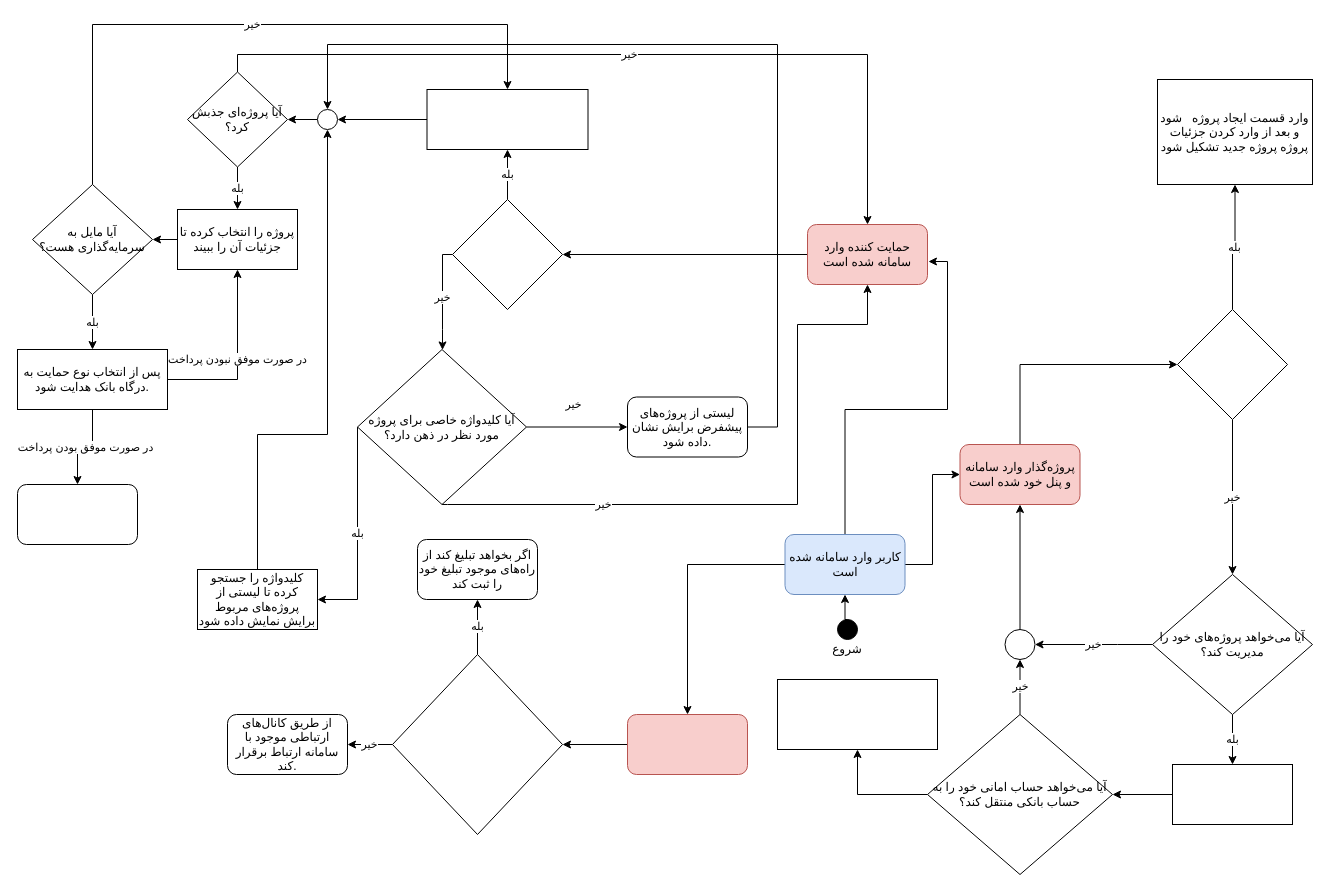
Image size: 1330x892. Some labels were removed from this diagram. Each missing label, with the box of its shape:
آیا از طریق اطلاعات موجود در سایت اطلاعات کافی را گرفته است؟: (392, 654, 562, 834)
آیا موضوع خاصی در ذهن دارد؟: (452, 198, 562, 310)
آیا می‌خواهد پروژه جدیدی طراحی کند؟: (1176, 308, 1288, 420)
تبلیغ‌گذار وارد سامانه شده است.: (626, 714, 748, 774)
موجودی حاضر در حساب امانی از طریق درگاه بانکی به حساب بانکی واریز شود: (776, 678, 938, 750)
موضوع مورد نظر خود را انتخاب کرده تا پروژه‌های مربوط برایش نشان داده شوند.: (426, 88, 588, 150)
وارد قسمت پروژه‌های گذاشته شده شود: (1172, 764, 1292, 824)
پول به حساب امانی پروژه گذار اضافه شود: (16, 484, 138, 544)
